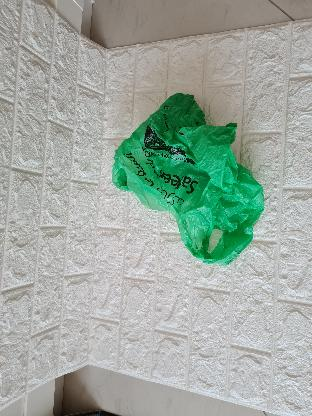Plastic Bag: (113, 87, 270, 273)
